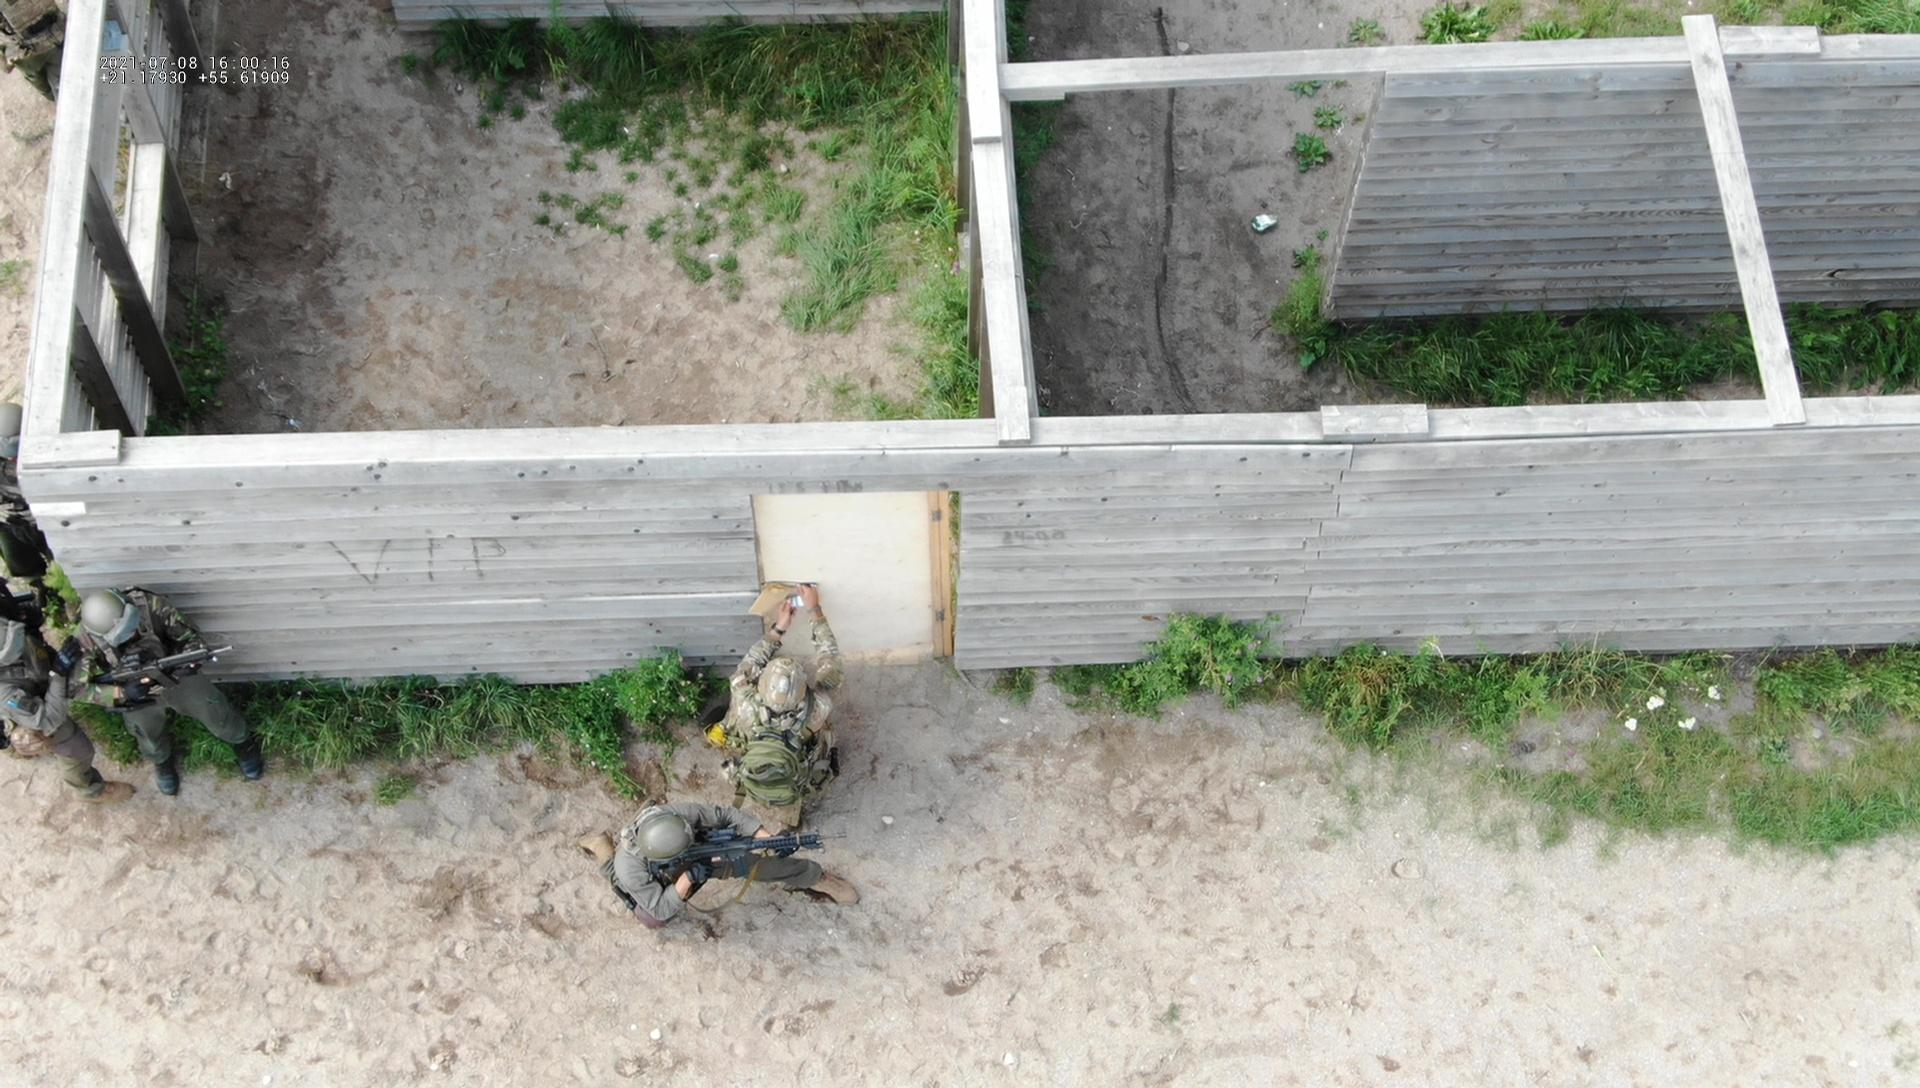Soldier: (86, 543, 280, 861), (611, 758, 880, 979), (691, 601, 884, 856)
